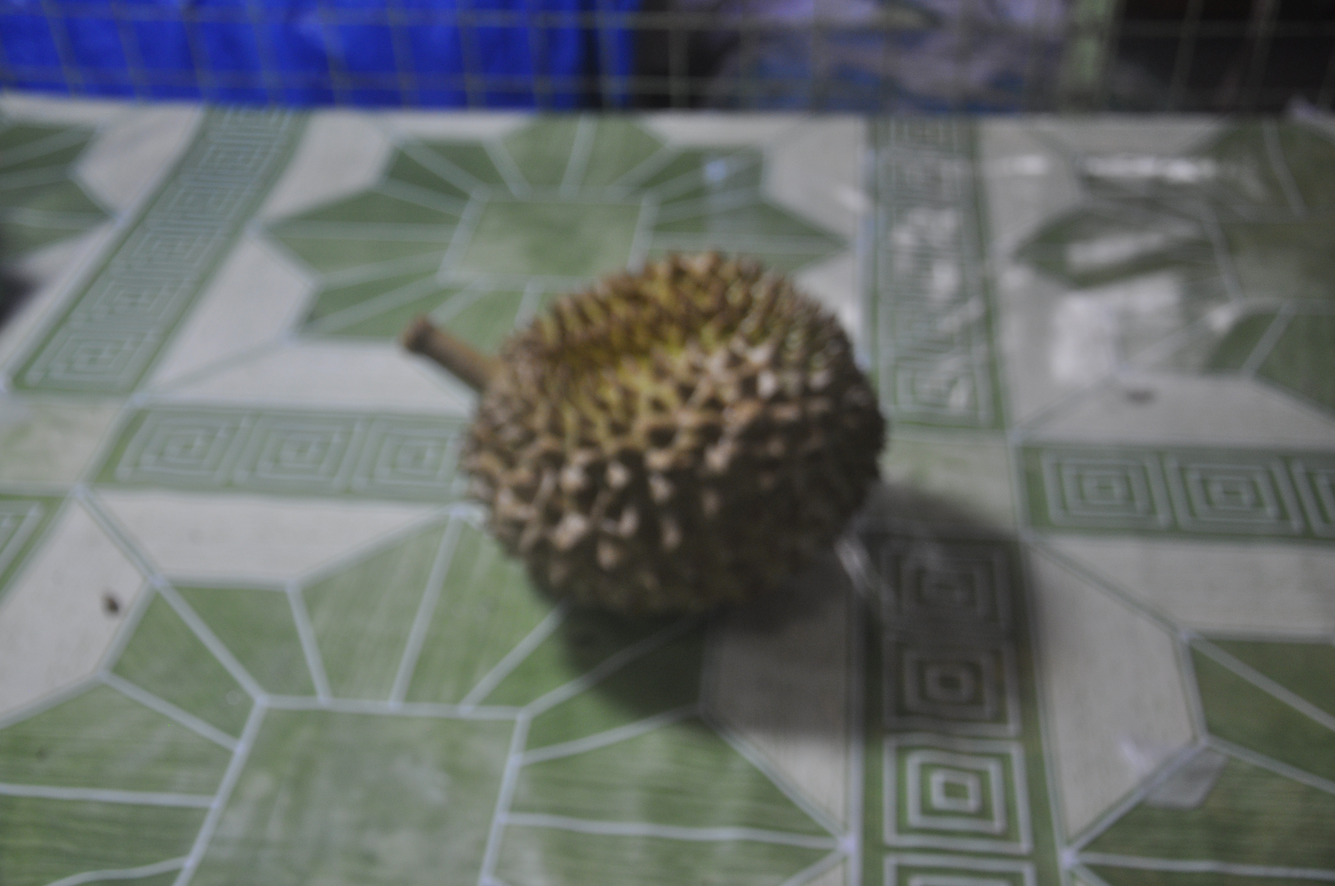mature: (403, 253, 886, 613)
